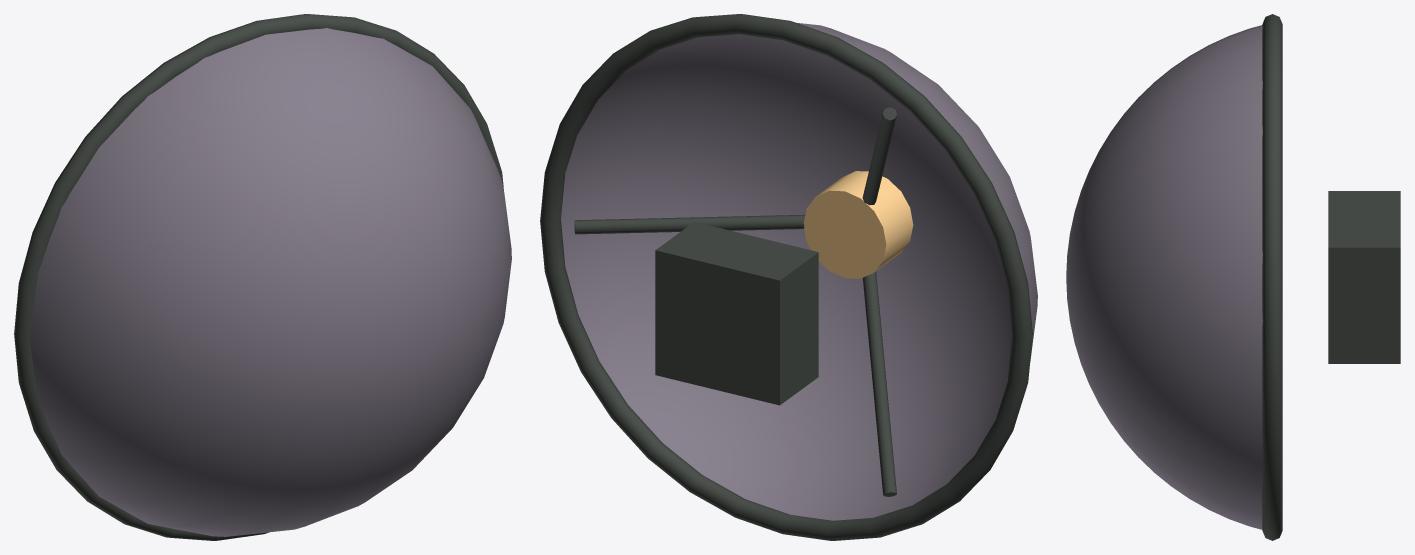
Rendered from echo-dish.glb.
3 views of the same model, side by side, from view 1: azimuth 30°, elevation 25°; view 2: azimuth 150°, elevation 25°; view 3: azimuth 270°, elevation 25° (orthographic). The views are drawn at different scales.
Visible parts, largest first — view 1: object 1, object 2; view 2: object 1, object 2, object 7, relayLamp, object 5, object 3, object 4; view 3: object 1, object 7, object 2.
Part boxes in pixels (x1,y1,x2,y2): object 1: (30, 28, 511, 536); object 2: (14, 14, 503, 540); object 1: (561, 22, 1037, 520); object 2: (540, 14, 1032, 540); object 7: (655, 222, 818, 405); relayLamp: (803, 171, 913, 278); object 5: (862, 271, 896, 496); object 3: (574, 214, 805, 234); object 4: (862, 107, 896, 205); object 1: (1066, 25, 1262, 529); object 7: (1328, 191, 1400, 363); object 2: (1262, 14, 1282, 540).
Bounding box in the file's own units: 0.946 × 0.946 × 0.6.
